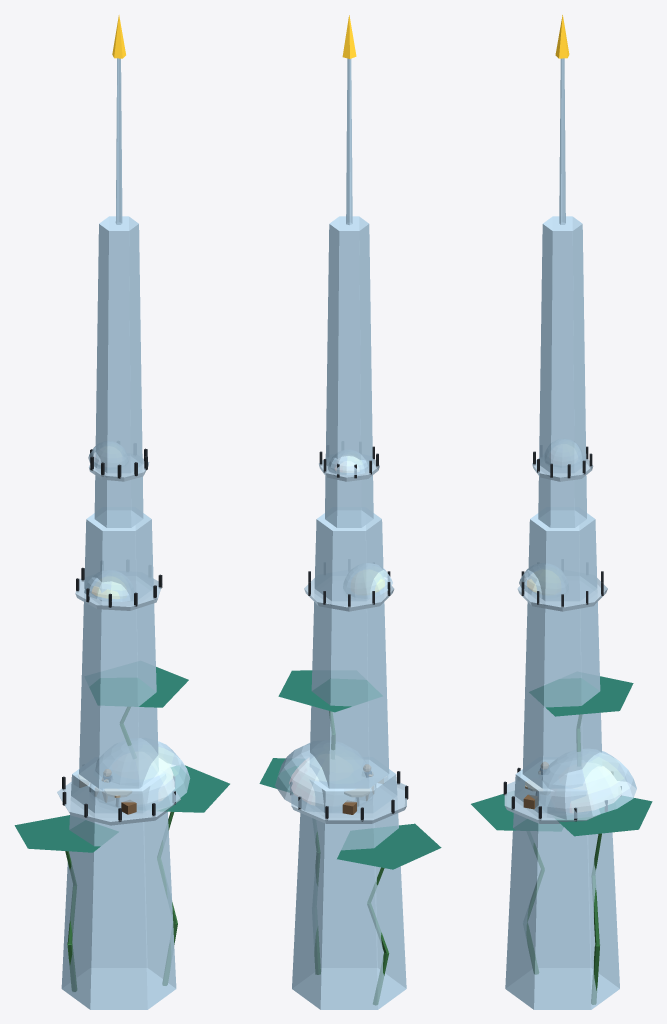
The model's file is moebiusTower.glb.
The picture shows the model from 3 angles, left to right: view 1: azimuth 30°, elevation 25°; view 2: azimuth 150°, elevation 25°; view 3: azimuth 330°, elevation 25°; orthographic projection.
Parts seen in each view (by area): view 1: n1, n3, n5, neon-dome-shell, n152, n160, crystal-view-platform, n144, crystal-view-platform.001, neon-dome-shell.001, n7, neon-dome-shell.002 (+1 smaller); view 2: n1, n3, n5, neon-dome-shell, n152, n160, crystal-view-platform, crystal-view-platform.001, neon-dome-shell.001, n7, neon-dome-shell.002, neon-dome-core (+2 smaller); view 3: n1, n3, n5, neon-dome-shell, n160, n144, crystal-view-platform.001, neon-dome-core, n152, neon-dome-shell.001, crystal-view-platform, n7 (+2 smaller).
Boxes of the visible parts, x1=… form: n1: x1=61, y1=762, x2=176, y2=1009; n3: x1=79, y1=513, x2=158, y2=788; n5: x1=94, y1=216, x2=143, y2=527; neon-dome-shell: x1=91, y1=738, x2=190, y2=813; n152: x1=14, y1=815, x2=118, y2=852; n160: x1=89, y1=667, x2=188, y2=707; crystal-view-platform: x1=57, y1=782, x2=180, y2=825; n144: x1=158, y1=765, x2=229, y2=812; crystal-view-platform.001: x1=75, y1=576, x2=162, y2=610; neon-dome-shell.001: x1=84, y1=570, x2=134, y2=601; n7: x1=115, y1=58, x2=122, y2=224; neon-dome-shell.002: x1=88, y1=441, x2=128, y2=469; n1: x1=292, y1=760, x2=406, y2=1009; n3: x1=310, y1=510, x2=389, y2=788; n5: x1=325, y1=216, x2=373, y2=527; neon-dome-shell: x1=275, y1=741, x2=373, y2=814; n152: x1=337, y1=823, x2=441, y2=869; n160: x1=278, y1=670, x2=382, y2=712; crystal-view-platform: x1=291, y1=781, x2=406, y2=823; crystal-view-platform.001: x1=304, y1=576, x2=394, y2=611; neon-dome-shell.001: x1=343, y1=563, x2=392, y2=598; n7: x1=346, y1=58, x2=352, y2=225; neon-dome-shell.002: x1=328, y1=450, x2=368, y2=475; neon-dome-core: x1=289, y1=758, x2=318, y2=805; n1: x1=505, y1=760, x2=619, y2=1009; n3: x1=522, y1=513, x2=601, y2=788; n5: x1=538, y1=216, x2=586, y2=527; neon-dome-shell: x1=537, y1=749, x2=636, y2=819; n160: x1=529, y1=676, x2=633, y2=716; n144: x1=555, y1=796, x2=652, y2=836; crystal-view-platform.001: x1=517, y1=576, x2=607, y2=611; neon-dome-core: x1=570, y1=766, x2=622, y2=812; n152: x1=471, y1=794, x2=563, y2=831; neon-dome-shell.001: x1=519, y1=563, x2=568, y2=598; crystal-view-platform: x1=504, y1=781, x2=600, y2=823; n7: x1=559, y1=58, x2=565, y2=224.
Size of the model in its own units: 5.79 by 29.07 by 3.66.
